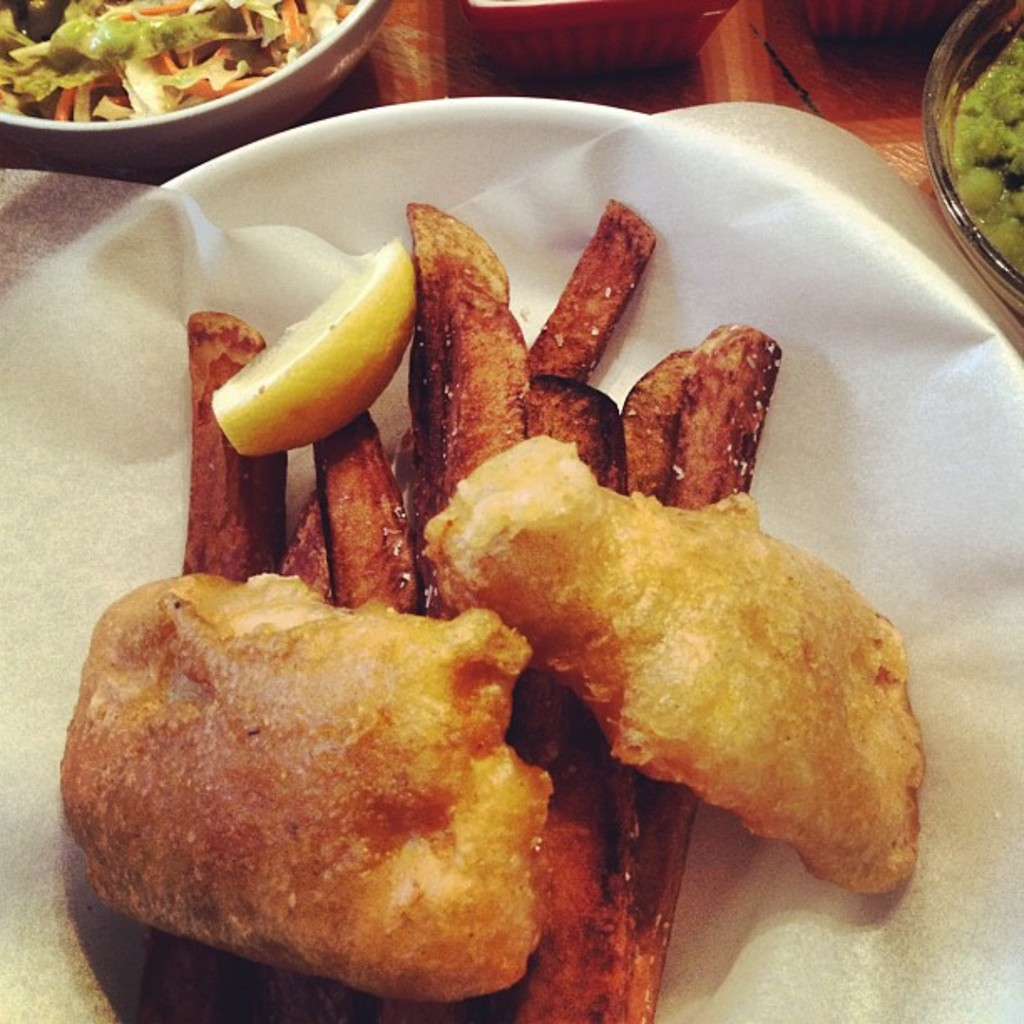French fries: (600, 306, 784, 1022), (172, 299, 292, 1022), (518, 368, 629, 1022), (294, 384, 403, 1022), (388, 182, 537, 622), (592, 332, 704, 844), (279, 478, 348, 1022), (530, 185, 654, 381)
